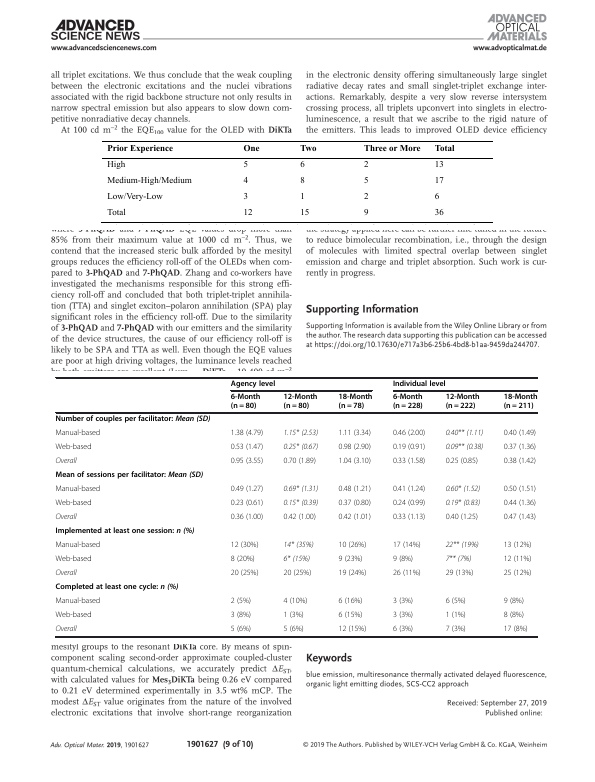borderless: (54, 376, 537, 636), (101, 139, 493, 222)
cell: (55, 415, 211, 425), (55, 471, 204, 481), (55, 527, 195, 537), (55, 583, 179, 593), (106, 176, 192, 186), (106, 143, 173, 153), (283, 393, 318, 412), (338, 393, 373, 412), (445, 393, 480, 412), (503, 393, 538, 412), (392, 393, 424, 412), (362, 143, 421, 153), (230, 393, 261, 412), (106, 192, 163, 202), (392, 380, 447, 389), (230, 380, 276, 389), (55, 429, 101, 438), (55, 485, 101, 494), (55, 541, 101, 550), (55, 597, 101, 606), (445, 429, 484, 438), (445, 443, 484, 452), (55, 443, 92, 452), (55, 499, 92, 508), (55, 555, 92, 564), (55, 611, 92, 620), (283, 429, 319, 438), (283, 443, 319, 452), (283, 485, 319, 494), (445, 485, 481, 494), (283, 499, 319, 508), (445, 499, 481, 508), (445, 541, 480, 550), (230, 429, 264, 438), (338, 429, 372, 438), (392, 429, 426, 438), (503, 429, 537, 438), (230, 443, 264, 452), (338, 443, 372, 452), (392, 443, 426, 452), (503, 443, 537, 452), (230, 457, 264, 466), (283, 457, 317, 466), (338, 457, 372, 466), (392, 457, 426, 466), (445, 457, 479, 466), (503, 457, 537, 466), (230, 485, 264, 494), (338, 485, 372, 494), (392, 485, 426, 494), (503, 485, 537, 494), (230, 499, 264, 508), (338, 499, 372, 508), (392, 499, 426, 508), (503, 499, 537, 508), (230, 513, 264, 522), (283, 513, 317, 522), (338, 513, 372, 522), (392, 513, 426, 522), (445, 513, 479, 522), (503, 513, 537, 522), (283, 541, 314, 550), (392, 541, 422, 550), (392, 569, 422, 578), (230, 541, 259, 550), (338, 541, 367, 550), (503, 541, 532, 550), (503, 555, 532, 564), (230, 569, 259, 578), (283, 569, 312, 578), (338, 569, 367, 578), (445, 569, 474, 578), (503, 569, 532, 578), (338, 625, 367, 634), (283, 555, 311, 564), (445, 555, 472, 564), (230, 555, 256, 564), (503, 625, 529, 634), (338, 555, 363, 564), (283, 597, 308, 606), (338, 597, 363, 606), (338, 611, 363, 620), (433, 143, 455, 153), (55, 457, 78, 466), (55, 513, 78, 522), (55, 569, 78, 578), (55, 625, 78, 634), (106, 160, 126, 170), (106, 208, 126, 218), (392, 555, 414, 564), (230, 597, 252, 606), (392, 597, 414, 606), (445, 597, 467, 606), (503, 597, 525, 606), (230, 611, 252, 620), (283, 611, 305, 620), (392, 611, 414, 620), (445, 611, 467, 620), (503, 611, 525, 620), (230, 625, 252, 634), (283, 625, 305, 634), (392, 625, 414, 634), (445, 625, 467, 634), (242, 143, 260, 153), (299, 143, 317, 153), (433, 160, 444, 170), (433, 176, 444, 186), (242, 208, 253, 218), (299, 208, 310, 218), (433, 208, 444, 218), (362, 160, 369, 170), (362, 176, 369, 186), (362, 192, 369, 202), (433, 192, 440, 202), (362, 208, 369, 218), (242, 160, 248, 170), (299, 160, 305, 170), (242, 176, 248, 186), (299, 176, 305, 186), (242, 192, 248, 202), (299, 192, 305, 202)
